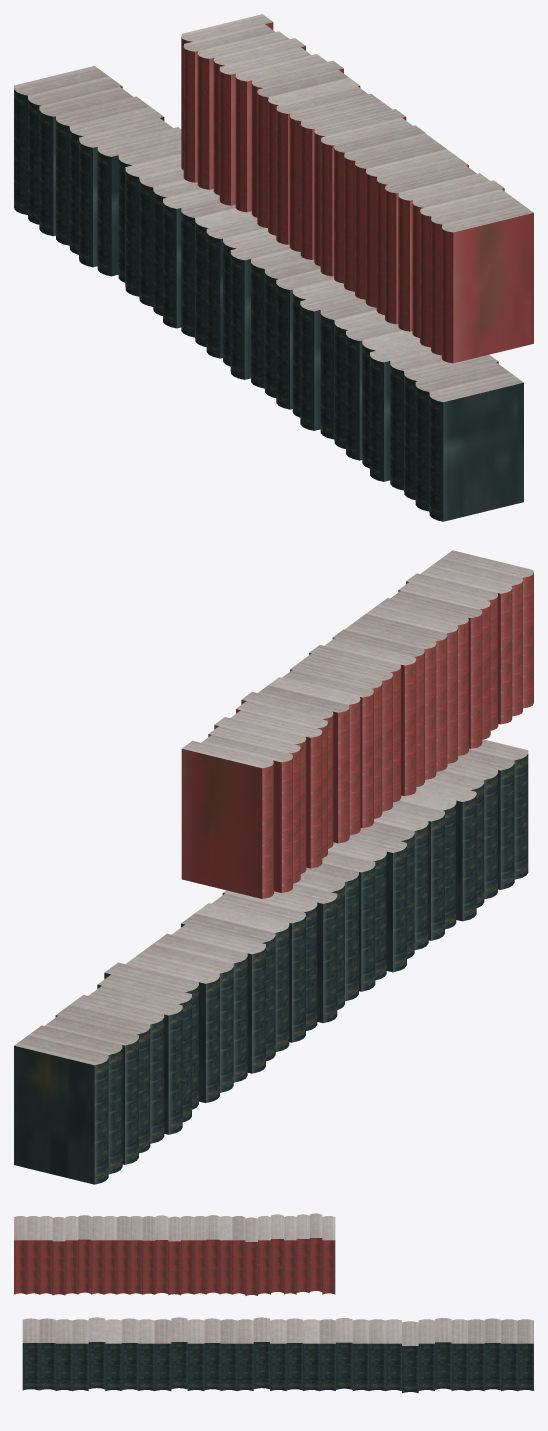
File: ExportLibraryBookEmpty_C.FBX
3 renders of one model, top to bottom at view 1: azimuth 30°, elevation 25°; view 2: azimuth 150°, elevation 25°; view 3: azimuth 270°, elevation 25°, orthographic. The views are drawn at different scales.
Parts seen in each view (by area): view 1: lib_books_empty_C; view 2: lib_books_empty_C; view 3: lib_books_empty_C.
Part boxes in pixels (left/top/right/bottom): lib_books_empty_C: left=14, top=14, right=533, bottom=521; lib_books_empty_C: left=14, top=550, right=533, bottom=1184; lib_books_empty_C: left=14, top=1213, right=533, bottom=1393.
Size of the model in its own units: 15.99 by 121 by 44.55.
